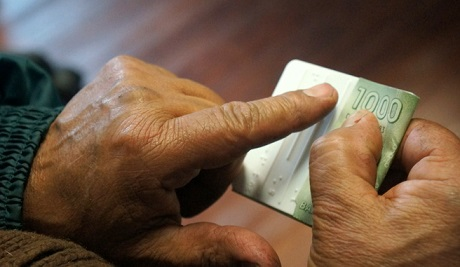billete: (231, 59, 418, 228)
